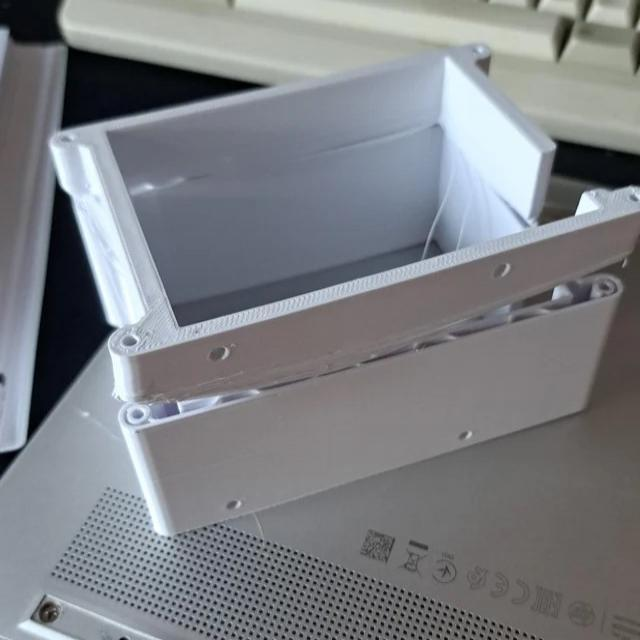Warping: (122, 383, 236, 415)
